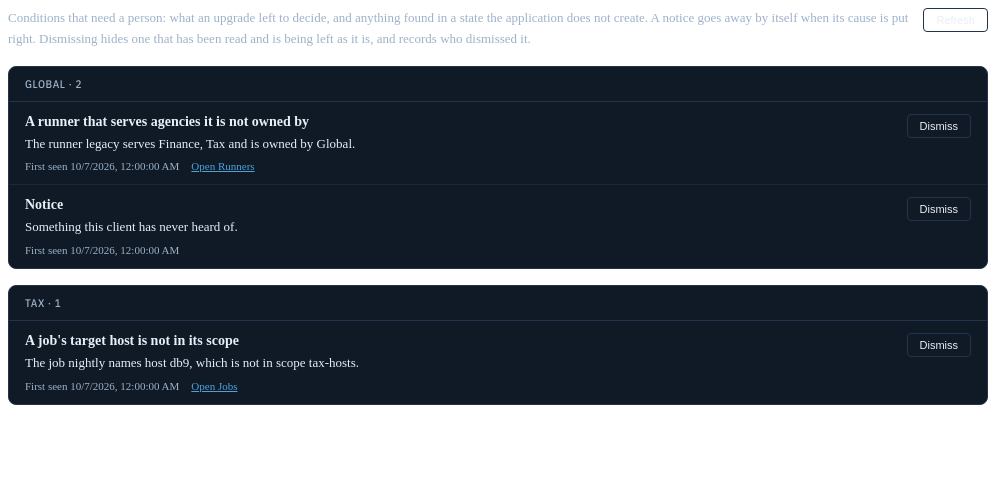
Test: Notices (LR-85) › shows the server's refusal and keeps the notice
Click the button with aria-label "Dismiss: ": coordinates (939, 126) [906,114,971,138]
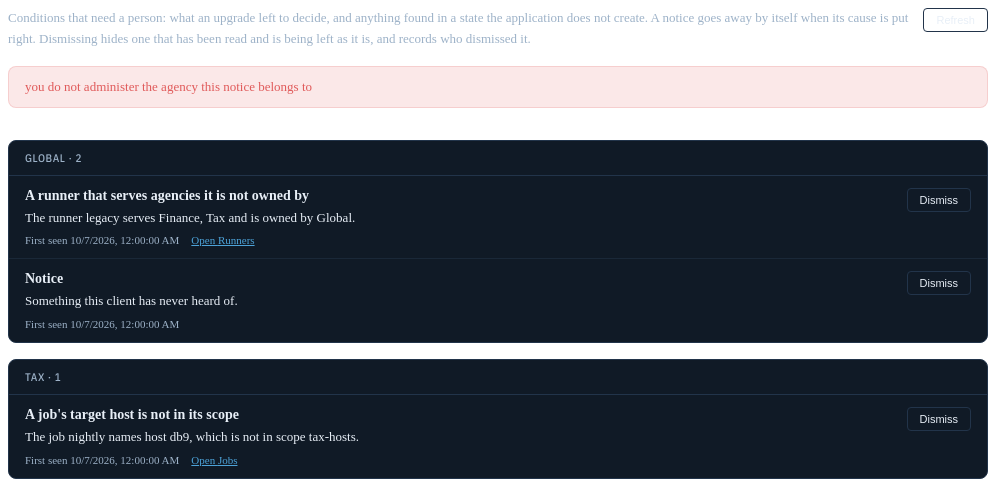
Expected: the number of buttons named "Dismiss: " is 3, [906,188,971,212]; [906,271,971,295]; [906,407,971,431]
Result: the text "you do not administer the agency this notice belongs to" is shown at [25,79,312,94]
